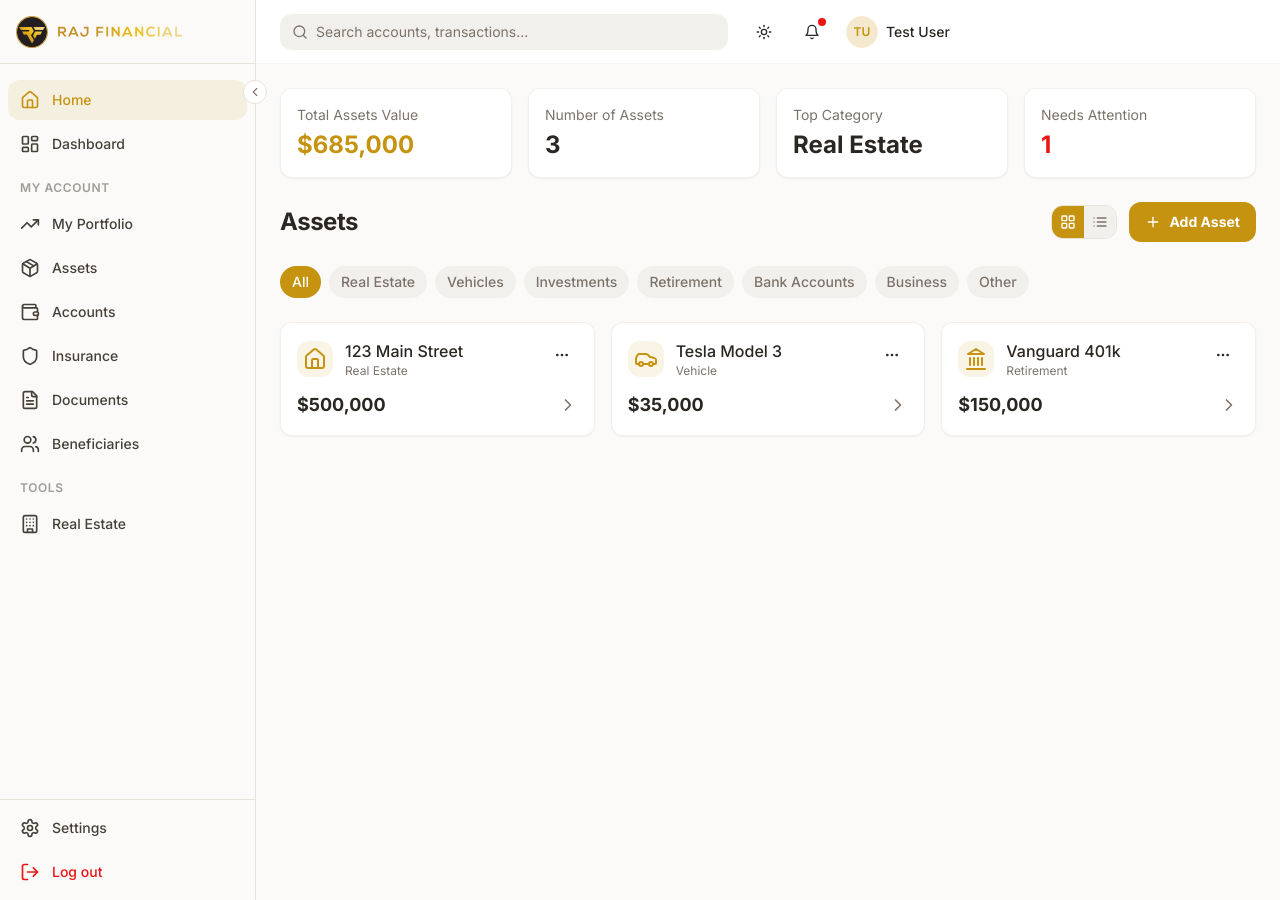
Test: Assets Page — View Toggle › switches back to card view when card button is clicked
Note: Switch to table first
Click the button named "Table view" at (1100, 222), box [1084, 206, 1116, 238]
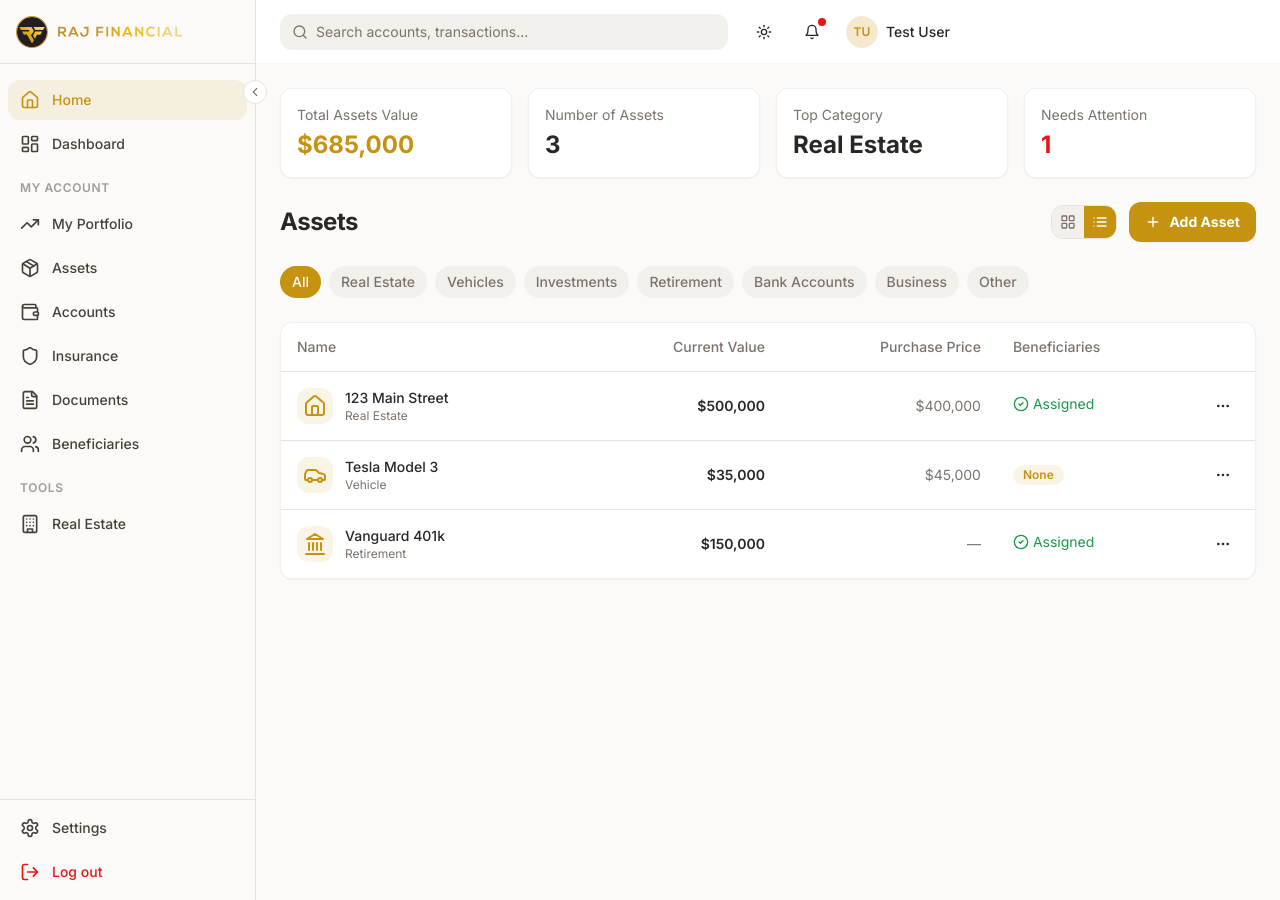
Expected: the column heading "Name" is shown, [281, 323, 580, 371]
Note: Switch back to card
Click the button named "Card view" at (1068, 222), box [1052, 206, 1084, 238]
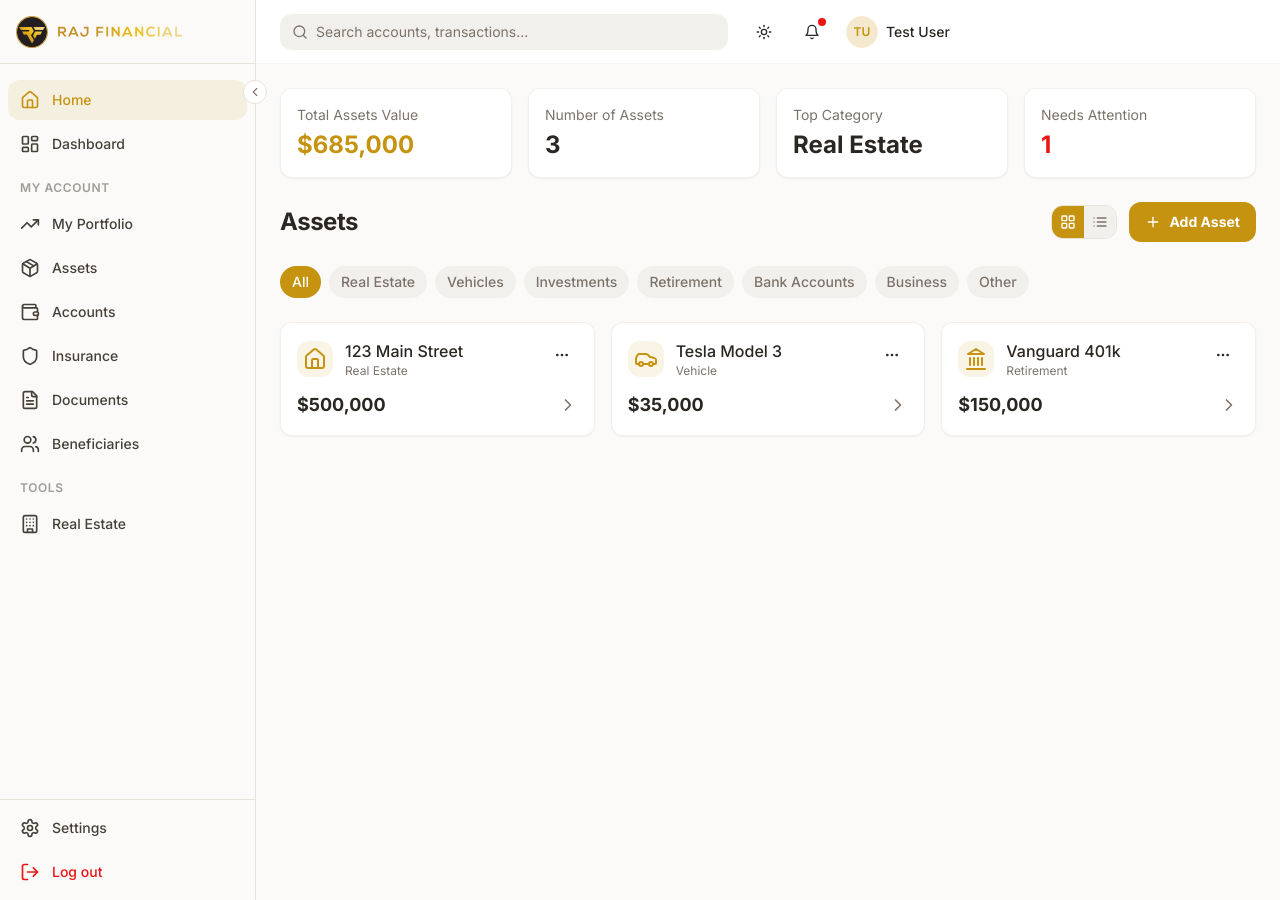
Expected: the column heading "Purchase Price" is gone
